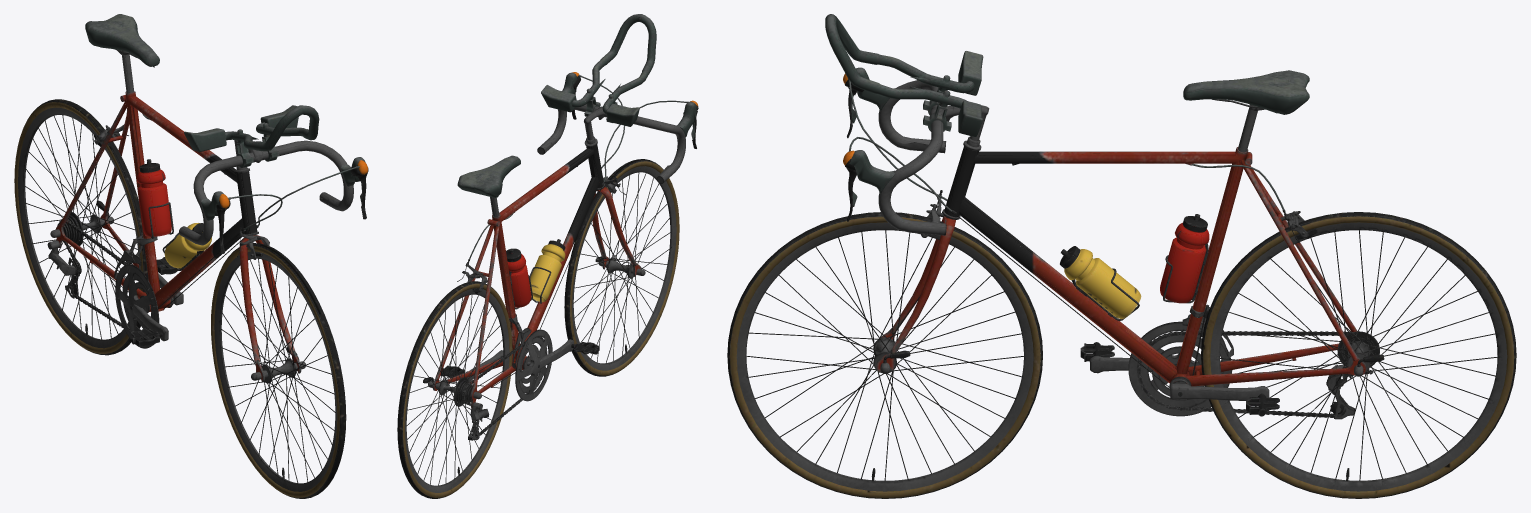
The model's file is racing-bicycle.glb.
3 views of the same model, side by side, from view 1: azimuth 30°, elevation 25°; view 2: azimuth 150°, elevation 25°; view 3: azimuth 270°, elevation 25° (orthographic). The views are drawn at different scales.
Parts seen in each view (by area): view 1: Object_11, Object_10, Object_3, Object_8, Object_5, Object_6, Object_12, Object_7, Object_4, Object_9; view 2: Object_11, Object_10, Object_3, Object_8, Object_6, Object_5, Object_12, Object_4, Object_7, Object_9; view 3: Object_11, Object_10, Object_3, Object_8, Object_6, Object_5, Object_4, Object_12, Object_7, Object_9.
Boxes of the visible parts, <box> form: Object_11: <box>14,93,368,497</box>; Object_10: <box>18,51,365,483</box>; Object_3: <box>14,55,362,498</box>; Object_8: <box>45,20,367,443</box>; Object_5: <box>24,50,367,401</box>; Object_6: <box>33,28,365,439</box>; Object_12: <box>50,14,283,467</box>; Object_7: <box>23,51,368,415</box>; Object_4: <box>57,51,366,403</box>; Object_9: <box>14,93,367,399</box>; Object_11: <box>397,14,698,498</box>; Object_10: <box>405,18,697,492</box>; Object_3: <box>403,17,696,497</box>; Object_8: <box>421,18,696,448</box>; Object_6: <box>412,17,693,478</box>; Object_5: <box>432,23,695,485</box>; Object_12: <box>428,138,626,467</box>; Object_4: <box>438,20,697,441</box>; Object_7: <box>437,73,696,485</box>; Object_9: <box>403,82,628,485</box>; Object_11: <box>729,14,1516,498</box>; Object_10: <box>746,51,1501,497</box>; Object_3: <box>727,65,1514,498</box>; Object_8: <box>799,21,1506,491</box>; Object_6: <box>800,18,1507,490</box>; Object_5: <box>844,75,1507,489</box>; Object_4: <box>826,76,1506,490</box>; Object_12: <box>873,70,1368,468</box>; Object_7: <box>845,62,1495,481</box>; Object_9: <box>845,77,1494,481</box>.
Size of the model in its own units: 44.4 by 113 by 168.
1 material, 1 textured.
